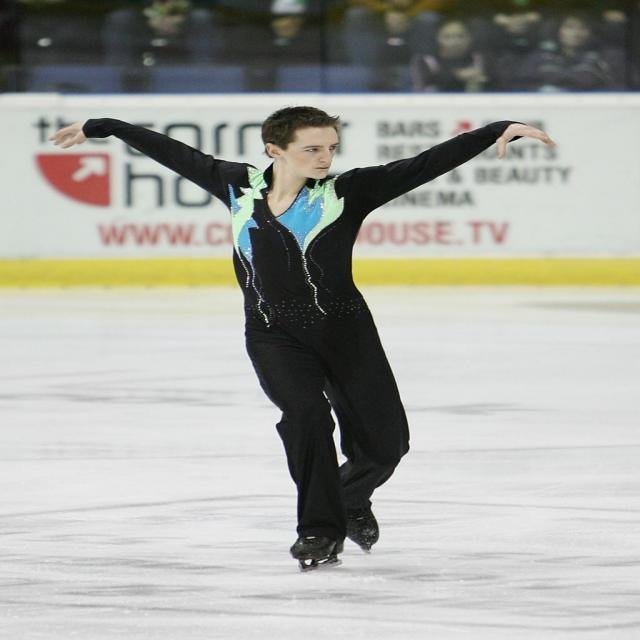nomask: (285, 126, 340, 178), (439, 22, 467, 54), (558, 18, 586, 46), (272, 16, 299, 35)
